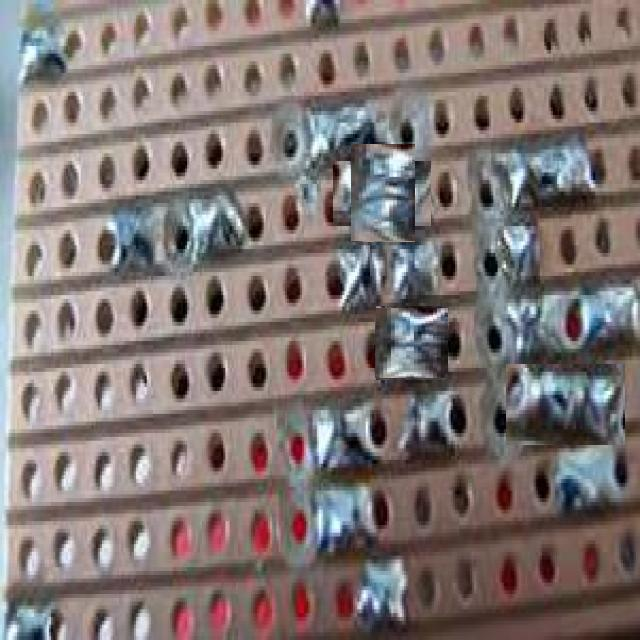Short_circuit: (506, 364, 625, 445), (342, 153, 423, 234), (376, 307, 448, 379)
